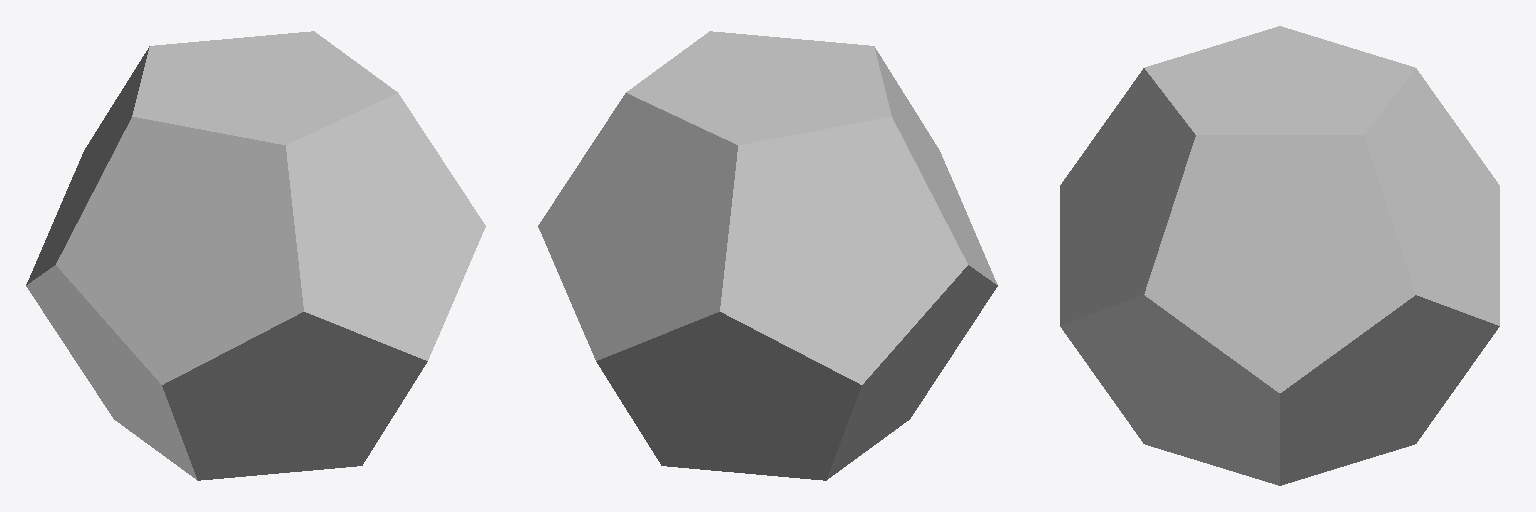
Rendered from dodecahedron.obj.
The picture shows the model from 3 angles: view 1: azimuth 30°, elevation 25°; view 2: azimuth 150°, elevation 25°; view 3: azimuth 270°, elevation 25°; orthographic projection.
Parts seen in each view (by area): view 1: Cube; view 2: Cube; view 3: Cube.
Boxes of the visible parts, x1=… form: Cube: x1=26, y1=31, x2=485, y2=480; Cube: x1=538, y1=31, x2=997, y2=480; Cube: x1=1060, y1=26, x2=1499, y2=485.
Bounding box in the file's own units: 1.09 × 0.8841 × 1.04.